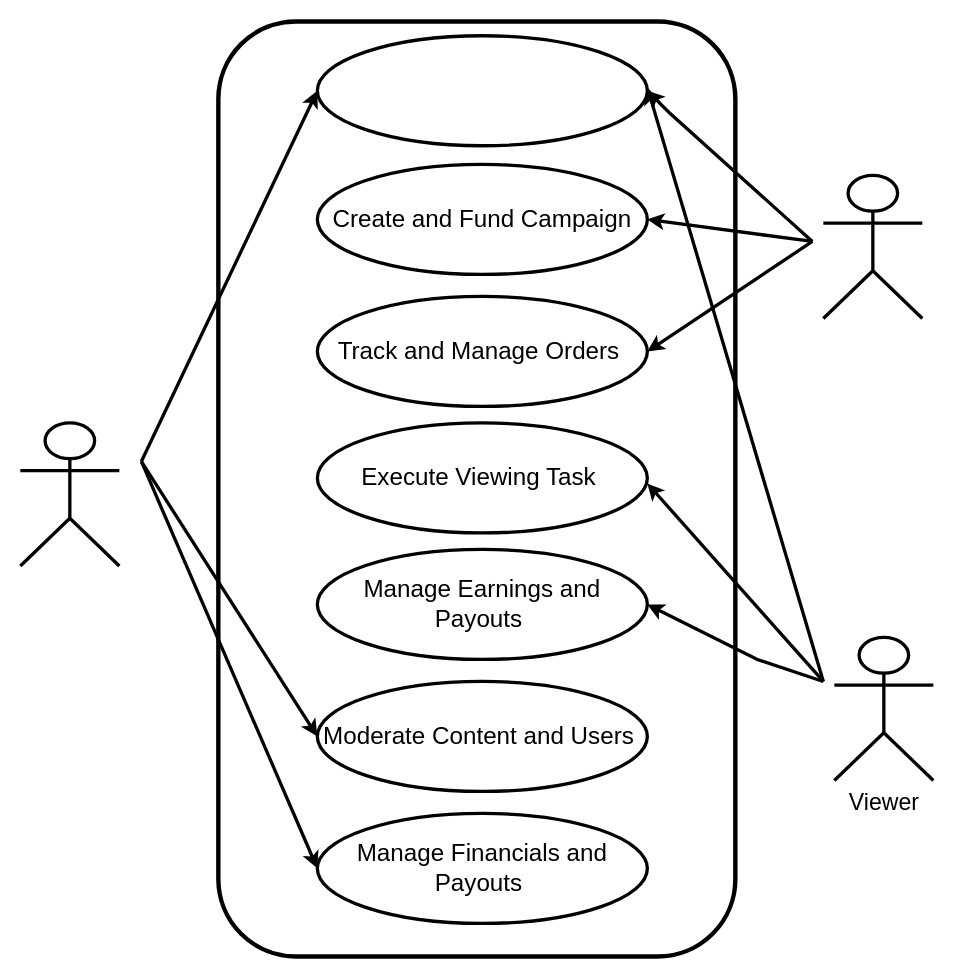
Some shapes in this 954 by 977 pixel diagram are drawn without their labels. The box of each missing label's shape, as (x1, y1, x2, y2) in pixels:
Admin: (18, 421, 120, 567)
Authenticate User: (315, 34, 648, 147)
Creator: (821, 173, 923, 320)
